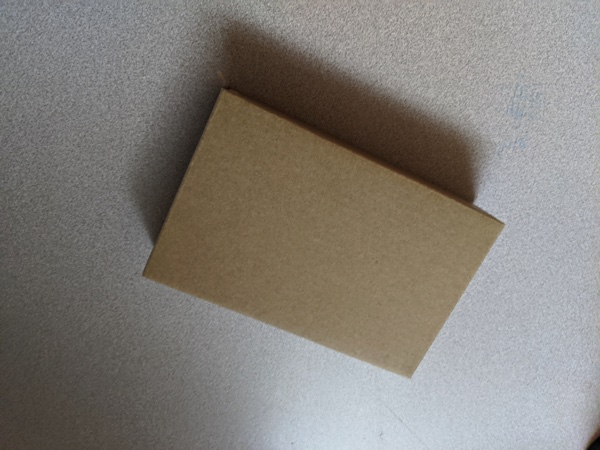cardboard: (136, 81, 519, 392)
